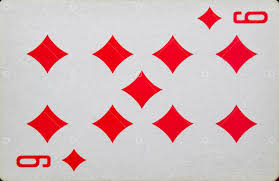nine of diamonds: (4, 3, 274, 177)
